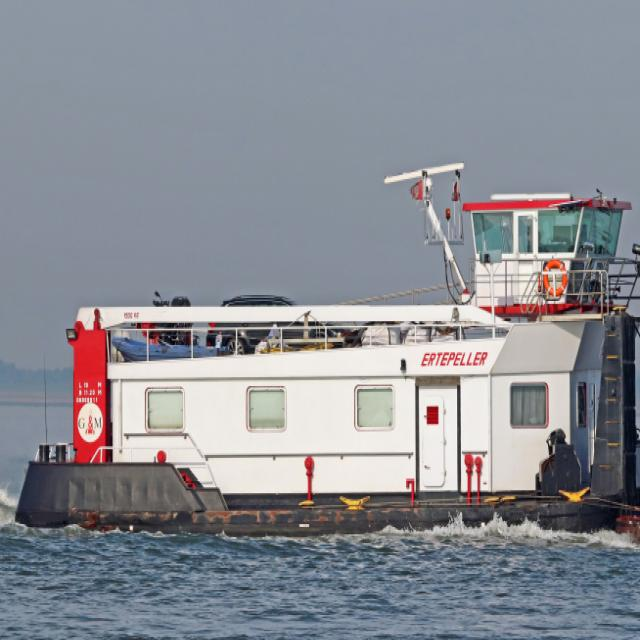tugboat: (8, 155, 640, 550)
